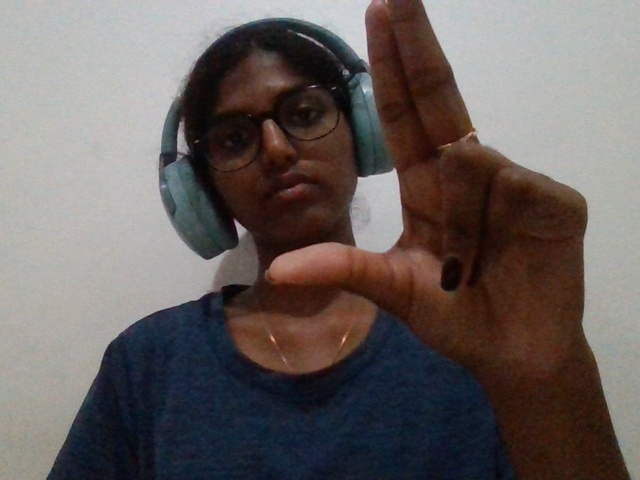No: (226, 3, 631, 409)
